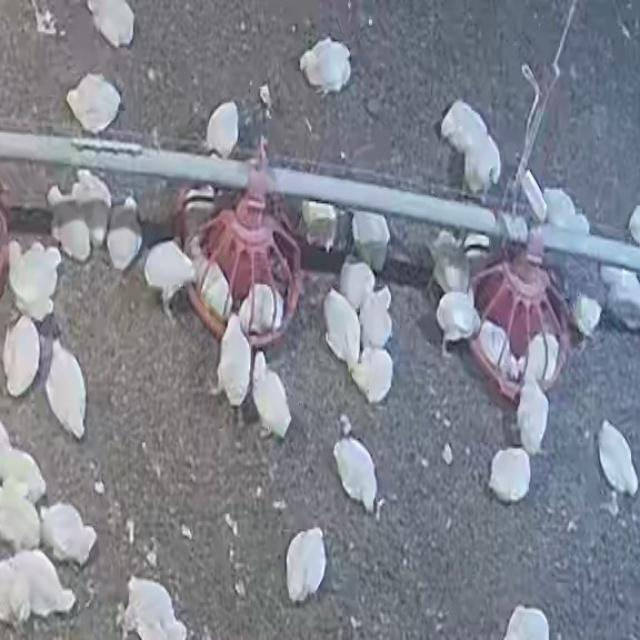chicken: (0, 551, 78, 625), (46, 342, 89, 439), (8, 239, 60, 319), (142, 239, 196, 315), (124, 576, 188, 640), (71, 155, 113, 244), (332, 433, 378, 513), (40, 502, 96, 566), (251, 354, 292, 440), (43, 186, 91, 259), (472, 309, 519, 382), (65, 73, 121, 134), (190, 238, 230, 320), (286, 527, 328, 605), (3, 314, 42, 398), (540, 187, 592, 249), (217, 315, 252, 406), (325, 285, 361, 373), (301, 36, 355, 94), (597, 420, 637, 496), (432, 226, 473, 300), (107, 191, 144, 270), (235, 280, 282, 342), (181, 165, 217, 245), (518, 376, 550, 456), (523, 322, 563, 384), (436, 290, 480, 346), (488, 447, 532, 503), (444, 96, 485, 155), (600, 266, 640, 324), (206, 99, 242, 162), (352, 212, 391, 270), (87, 2, 136, 48), (460, 136, 500, 192), (355, 348, 394, 405), (361, 285, 393, 349), (338, 254, 375, 309), (500, 604, 551, 639), (573, 294, 603, 338)
